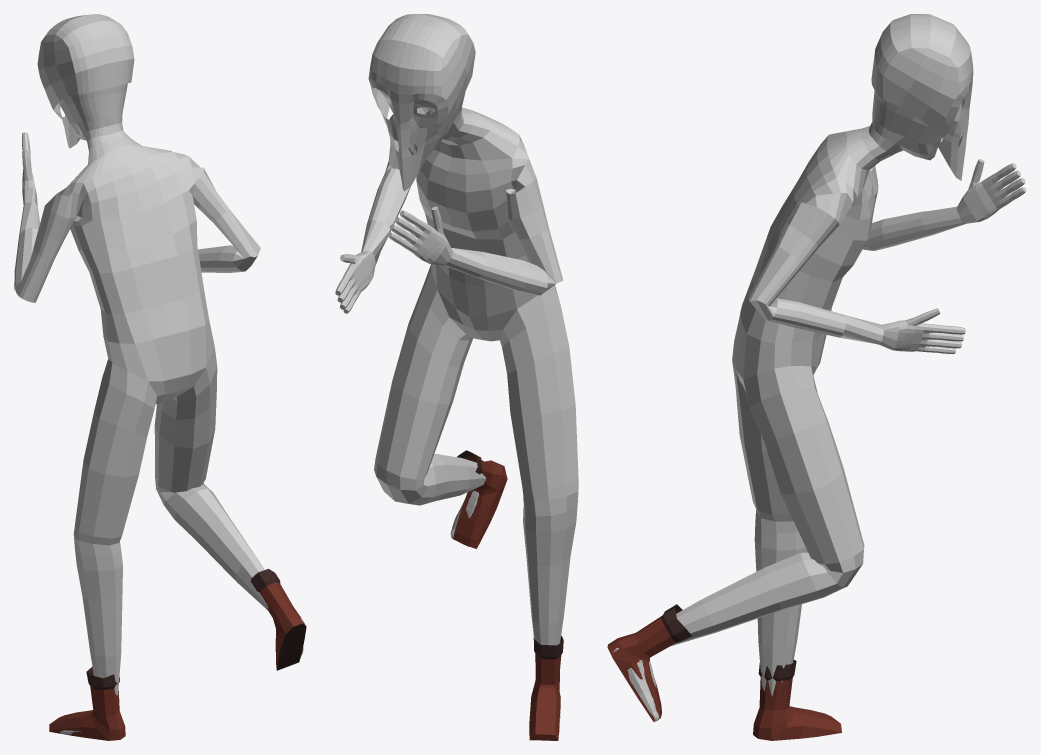
File: correr_000160.obj
The picture shows the model from 3 angles, left to right: view 1: azimuth 30°, elevation 25°; view 2: azimuth 150°, elevation 25°; view 3: azimuth 270°, elevation 25°; orthographic projection. The views are drawn at different scales.
Parts seen in each view (by area): view 1: Plane.002_Plane.001, Plane.004, Plane.003; view 2: Plane.002_Plane.001, Plane.004, Plane.003; view 3: Plane.002_Plane.001, Plane.004, Plane.003.
Boxes of the visible parts, <box> form: Plane.002_Plane.001: <box>14,14,303,734</box>; Plane.004: <box>49,667,125,740</box>; Plane.003: <box>251,568,306,670</box>; Plane.002_Plane.001: <box>335,14,578,740</box>; Plane.004: <box>529,636,563,740</box>; Plane.003: <box>453,450,507,548</box>; Plane.002_Plane.001: <box>613,14,1026,721</box>; Plane.004: <box>753,659,841,740</box>; Plane.003: <box>607,604,692,721</box>.
Size of the model in its own units: 2.12 by 6.79 by 3.46.
